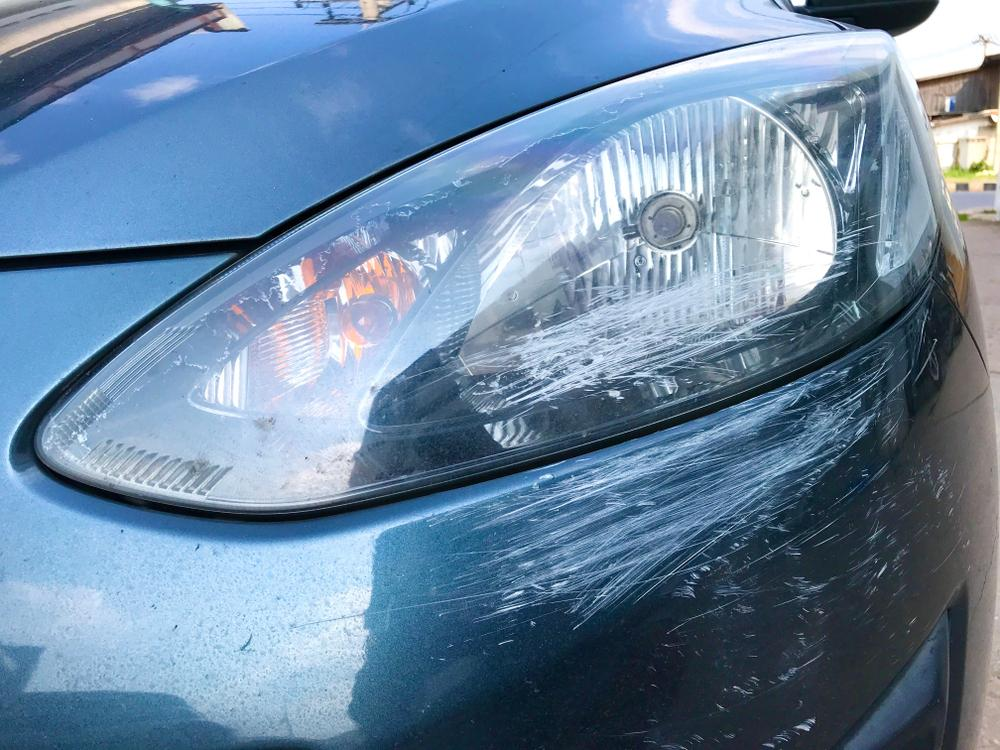scratch: (424, 294, 971, 750), (473, 201, 895, 416)
